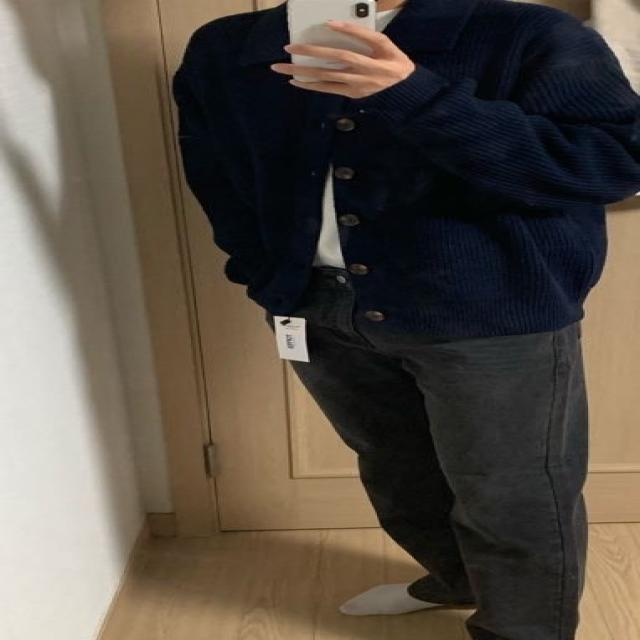cardigan: (167, 0, 640, 340)
denimpants: (257, 257, 592, 640)
